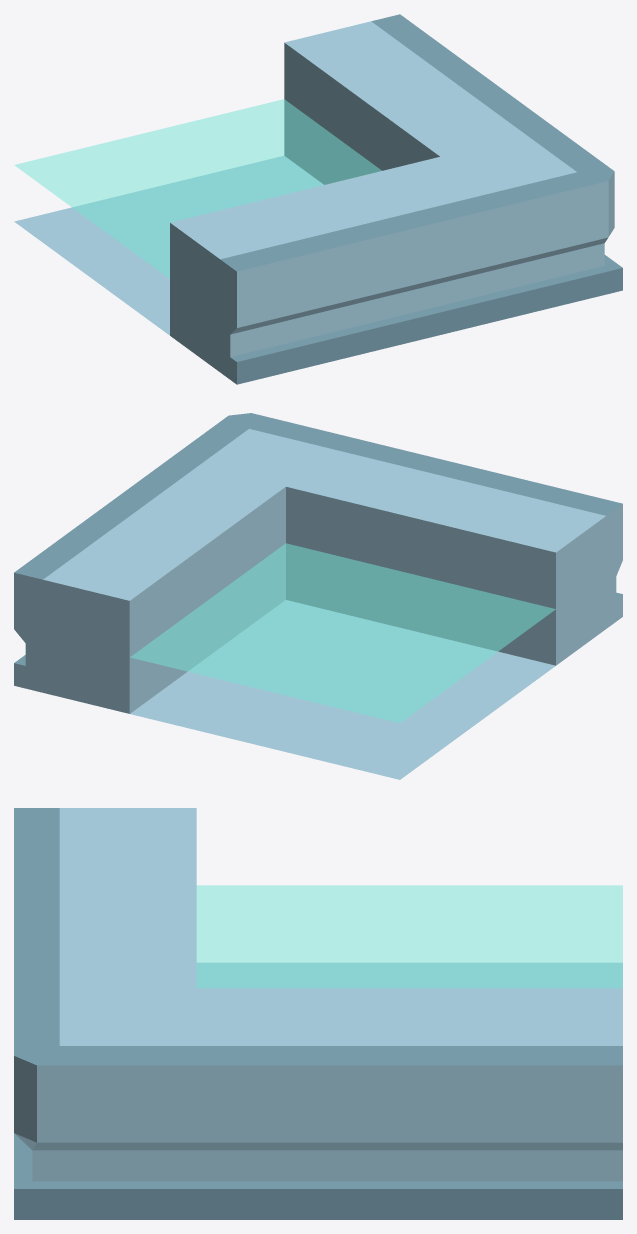
Rendered from fountainCorner.glb.
3 views of the same model, one above another, from view 1: azimuth 30°, elevation 25°; view 2: azimuth 150°, elevation 25°; view 3: azimuth 270°, elevation 25° (orthographic). The views are drawn at different scales.
Visible parts, largest first — view 1: fountainCorner; view 2: fountainCorner; view 3: fountainCorner.
Boxes of the visible parts, x1,y1,x2,y2 form: fountainCorner: (14,14,622,384); fountainCorner: (14,413,622,779); fountainCorner: (14,808,622,1219).
Size of the model in its own units: 1 by 0.28 by 1.
